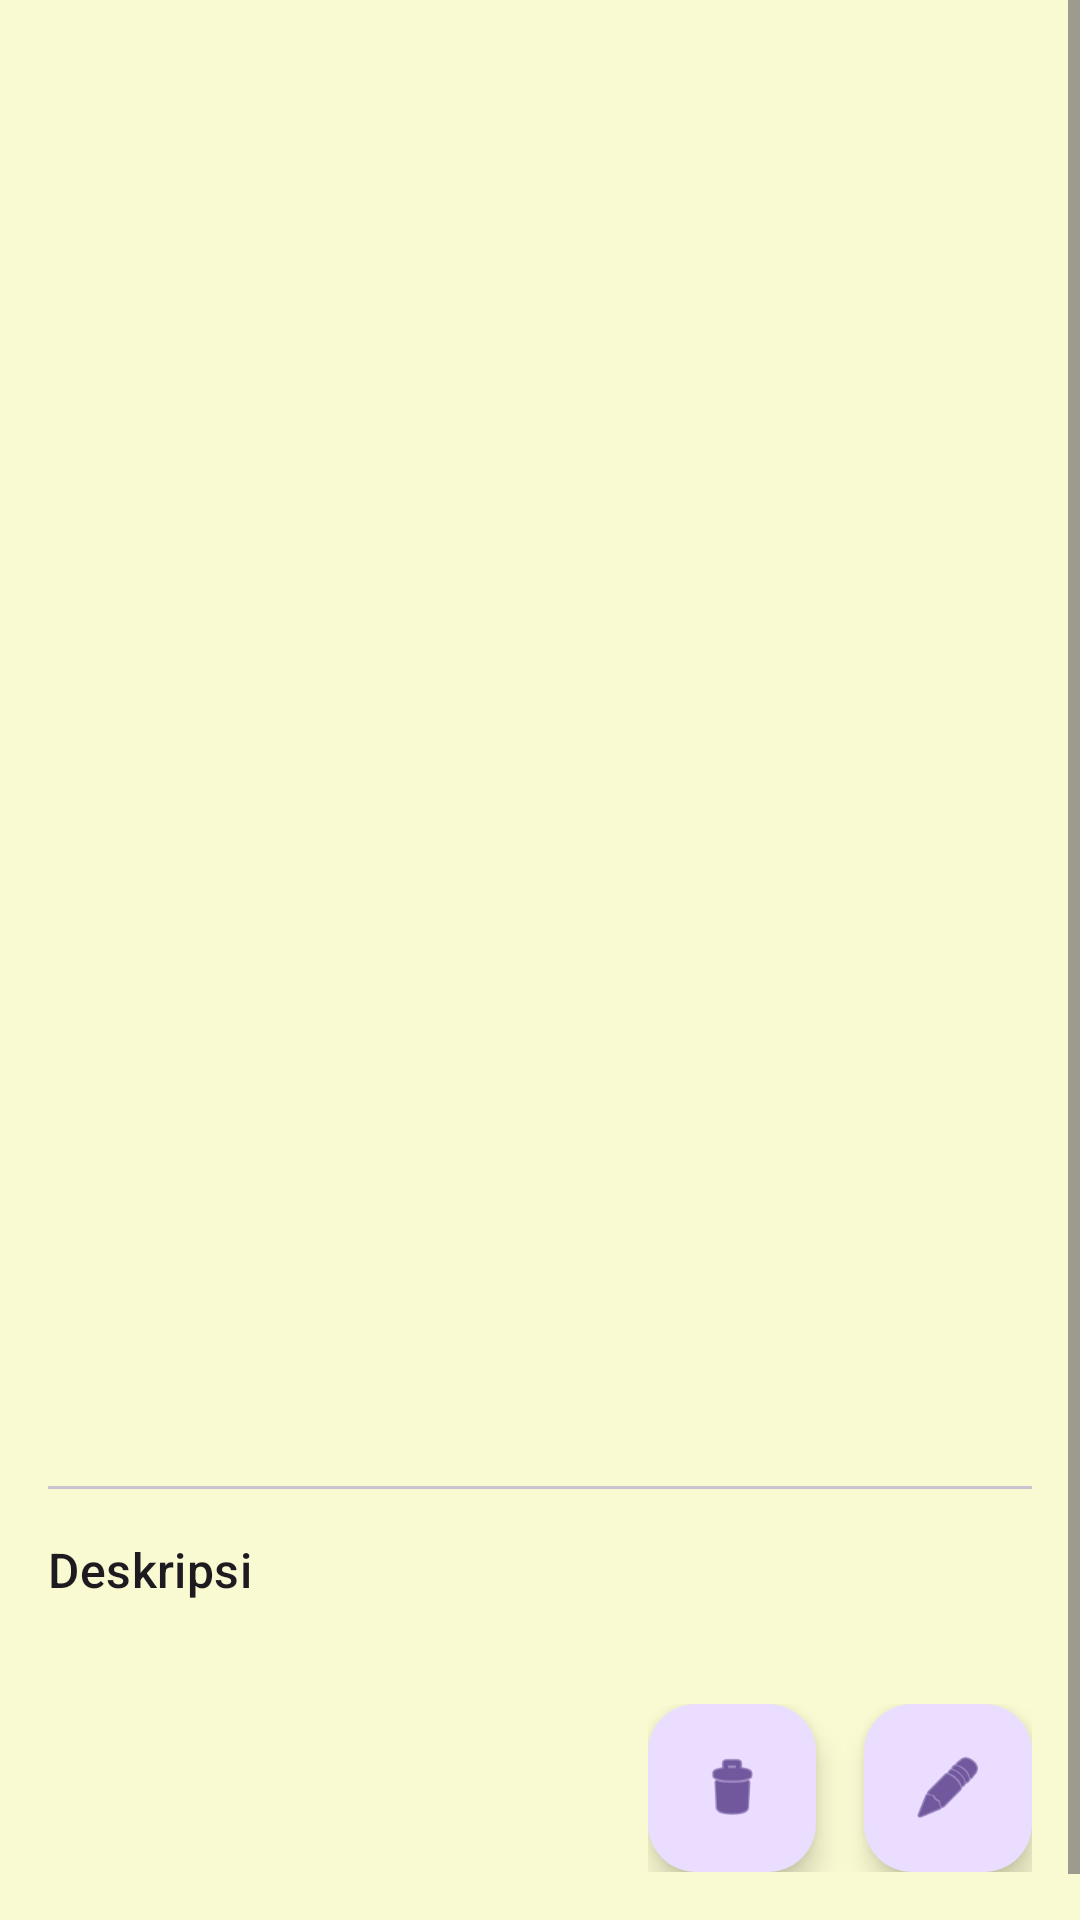

Icon click points for this 1080px×1920px phone screenshot, format (x,y):
Edit item: (948,1788)
Hapus item: (732,1788)
